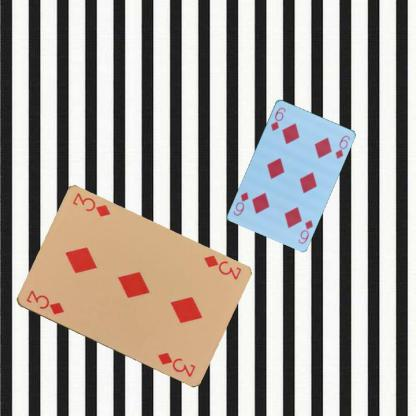3d: (23, 287, 65, 317), (201, 252, 243, 282)
6d: (268, 104, 287, 132), (296, 217, 314, 245)
